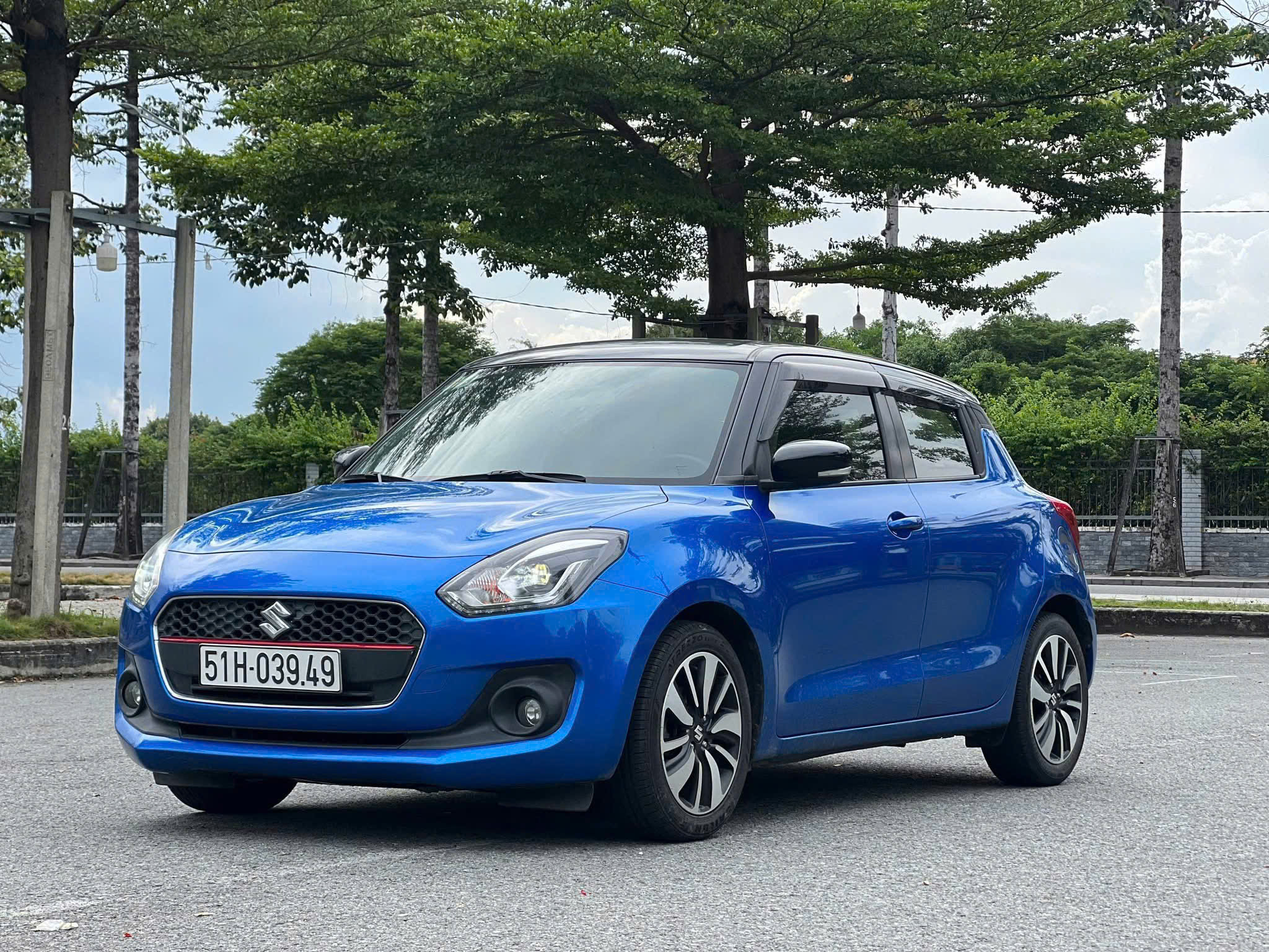Bien-so: (202, 645, 343, 692)
